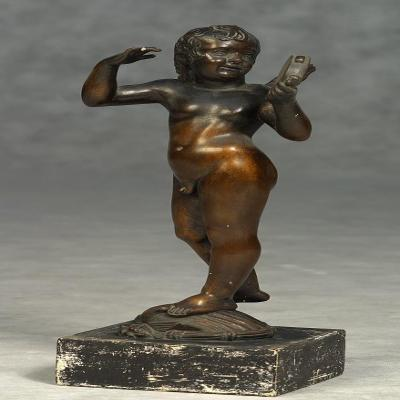sculpture: (55, 24, 345, 398)
